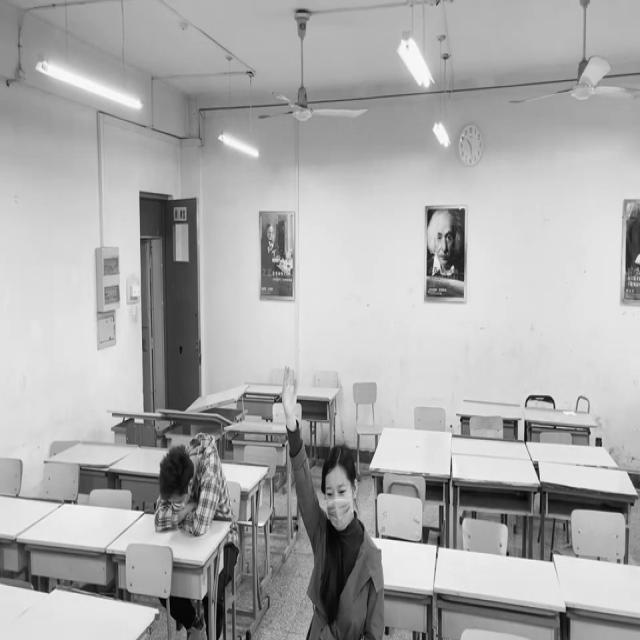sleep: (151, 429, 231, 533)
study: (283, 366, 385, 639)
